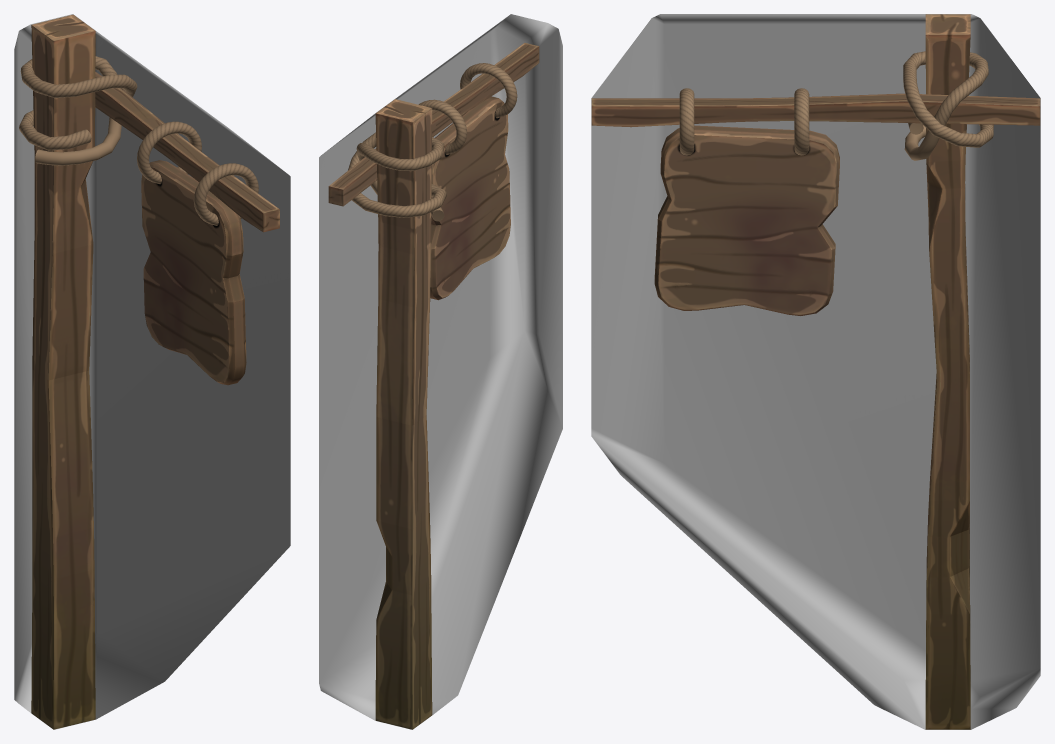
The model's file is SM_Sign_02.gltf.
3 renders of one model, left to right at view 1: azimuth 30°, elevation 25°; view 2: azimuth 150°, elevation 25°; view 3: azimuth 270°, elevation 25°, orthographic. The views are drawn at different scales.
Visible parts, largest first — view 1: SM_Sign_02_ConvexHulls, SM_Sign_02_LOD0; view 2: SM_Sign_02_ConvexHulls, SM_Sign_02_LOD0; view 3: SM_Sign_02_ConvexHulls, SM_Sign_02_LOD0.
Boxes of the visible parts, bbox=[...] form: SM_Sign_02_ConvexHulls: bbox=[14, 14, 290, 729]; SM_Sign_02_LOD0: bbox=[19, 14, 279, 729]; SM_Sign_02_ConvexHulls: bbox=[319, 14, 562, 729]; SM_Sign_02_LOD0: bbox=[328, 43, 539, 729]; SM_Sign_02_ConvexHulls: bbox=[591, 14, 1040, 729]; SM_Sign_02_LOD0: bbox=[591, 14, 1040, 729].
Size of what is drawn, in the model's own units: 0.5909 by 3.72 by 2.18.
2 materials, 1 textured.
